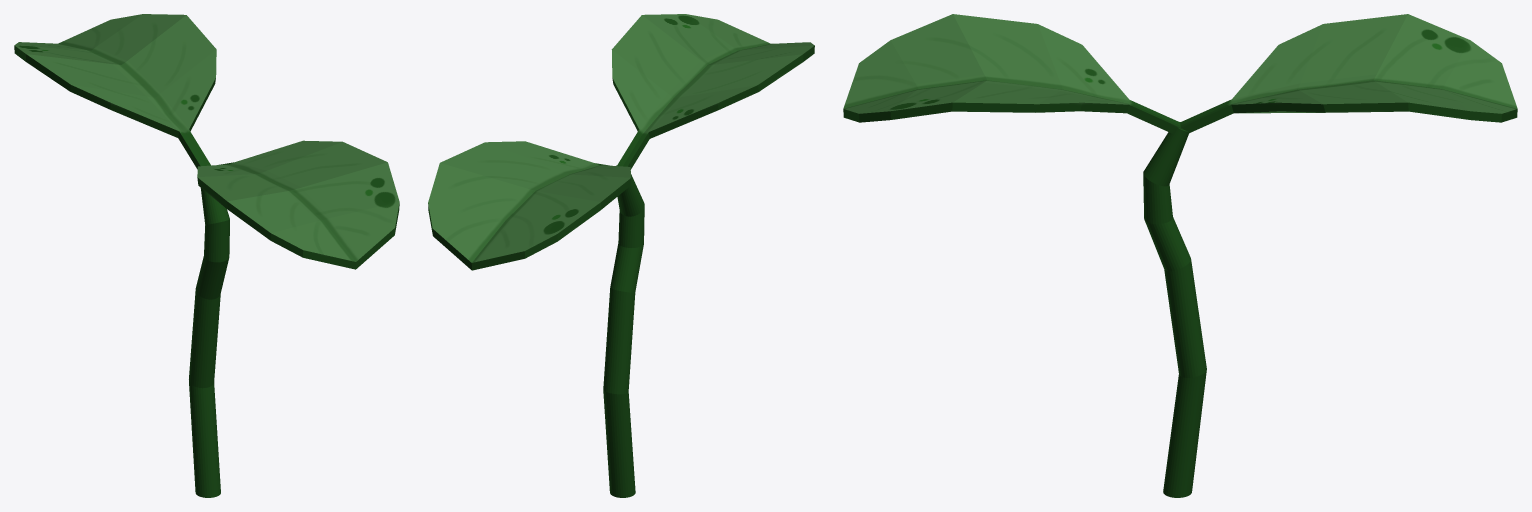
The model's file is tomatoGrowingStage1.fbx.
3 renders of one model, left to right at view 1: azimuth 30°, elevation 25°; view 2: azimuth 150°, elevation 25°; view 3: azimuth 270°, elevation 25°, orthographic. The views are drawn at different scales.
Parts seen in each view (by area): view 1: leaf, leaf.001, stem; view 2: leaf.001, leaf, stem; view 3: leaf.001, leaf, stem.
Part boxes in pixels (x1=…): leaf: x1=197, y1=140, x2=399, y2=269; leaf.001: x1=14, y1=14, x2=216, y2=169; stem: x1=189, y1=188, x2=229, y2=497; leaf.001: x1=428, y1=141, x2=630, y2=270; leaf: x1=611, y1=14, x2=814, y2=169; stem: x1=603, y1=165, x2=644, y2=497; leaf.001: x1=1180, y1=14, x2=1517, y2=133; leaf: x1=843, y1=14, x2=1182, y2=133; stem: x1=1143, y1=122, x2=1206, y2=497.
Size of the model in its own units: 16.02 by 36.57 by 51.56.
